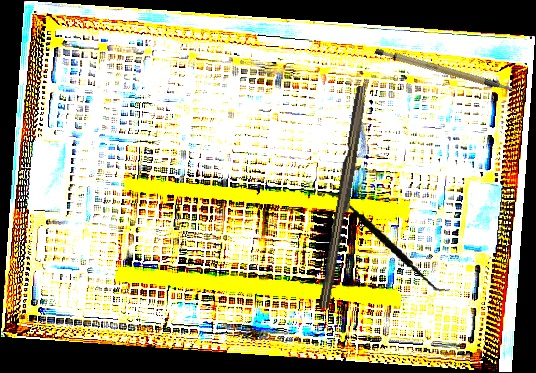Scalpel Handle: (373, 30, 516, 114), (318, 85, 371, 310)
Spatula Surgical: (314, 189, 463, 294)
